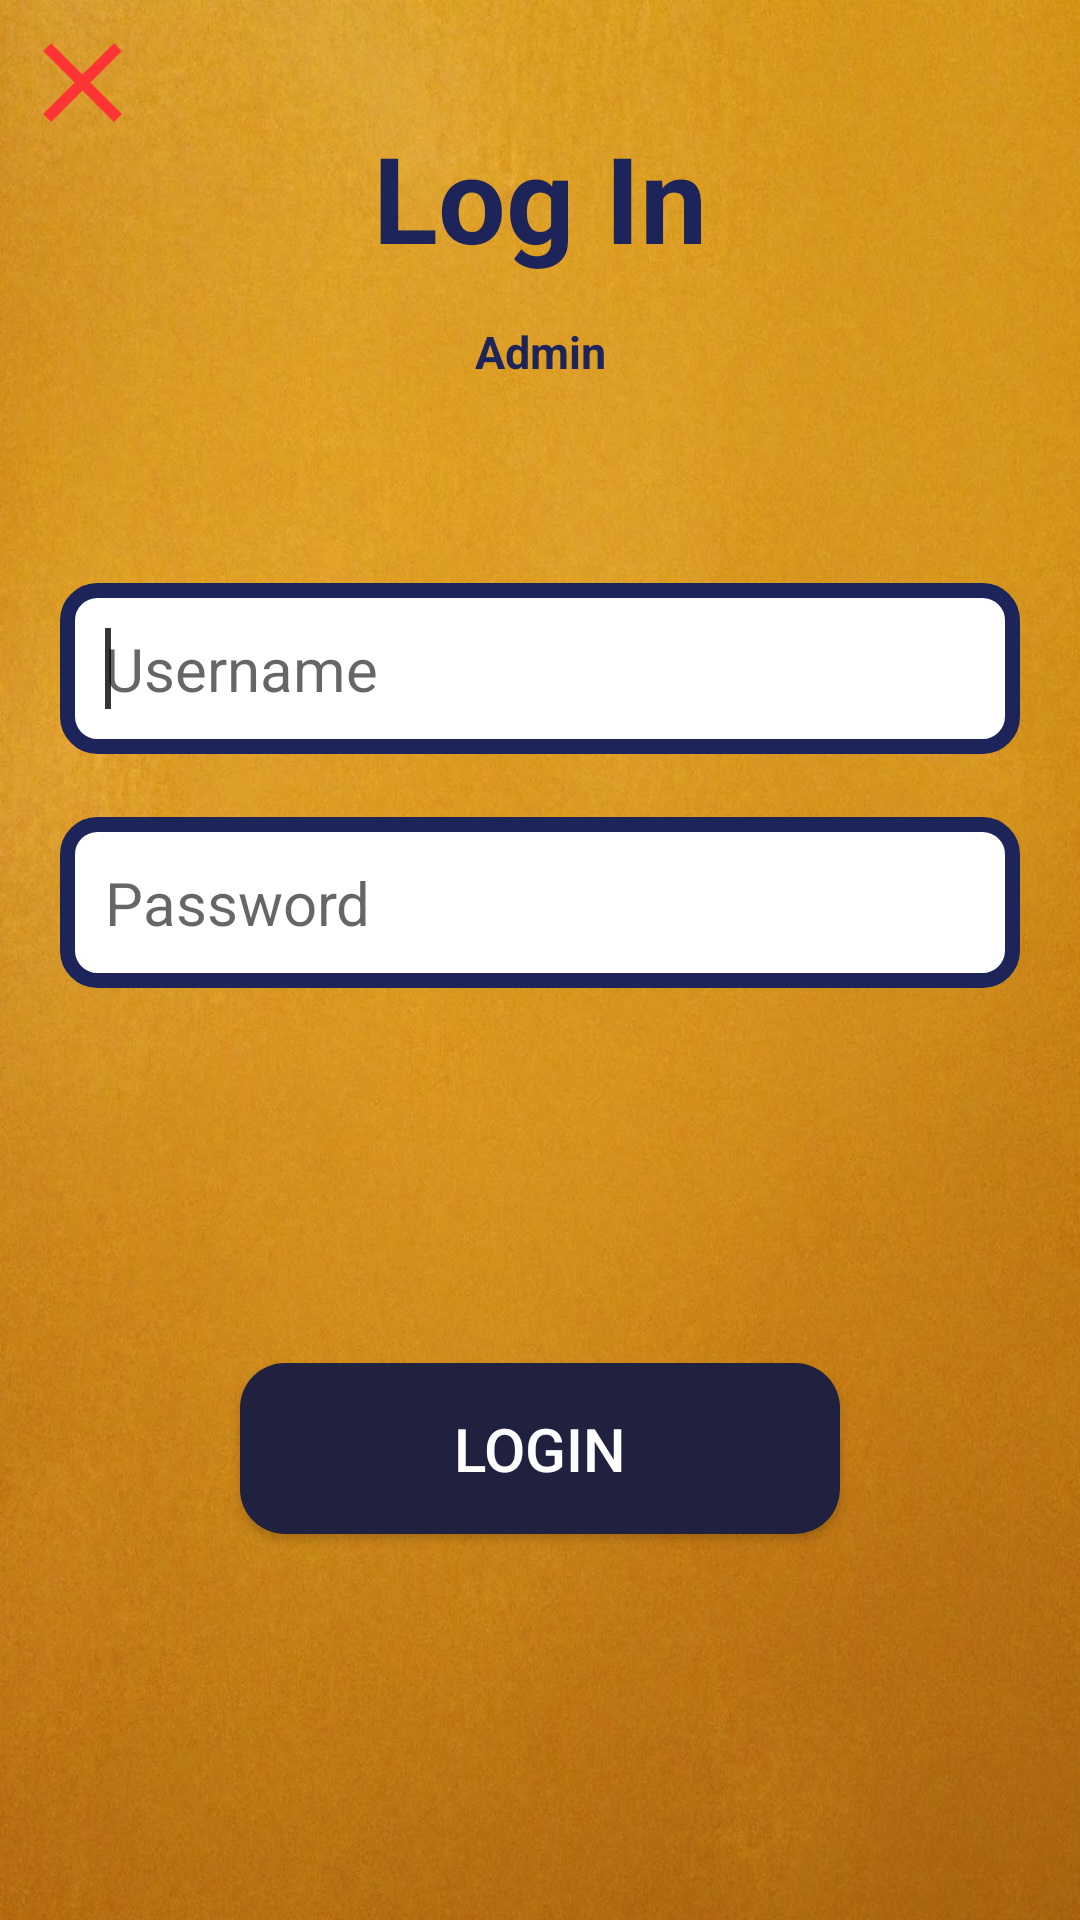

Locate icon controls on the screen. Image size 1080x1920, boxes as bbox=[x1, y1, x2, y2].
close: bbox=[43, 43, 122, 122]
